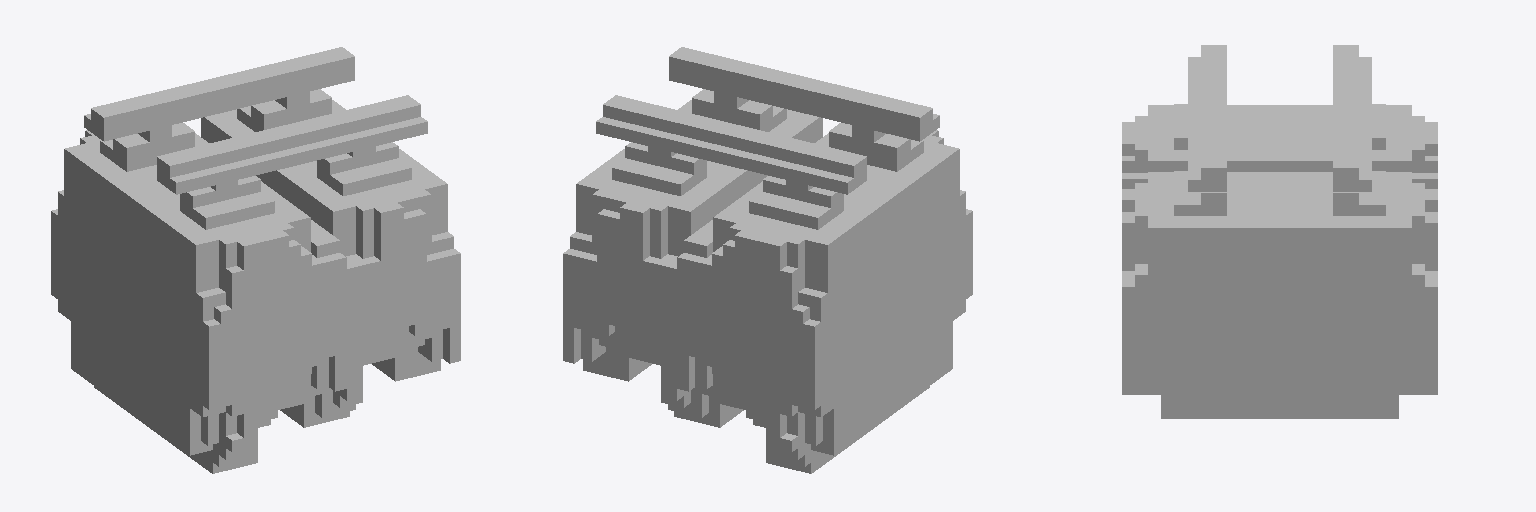
The model's file is ready rail ice.obj.
3 views of the same model, side by side, from view 1: azimuth 30°, elevation 25°; view 2: azimuth 150°, elevation 25°; view 3: azimuth 270°, elevation 25° (orthographic).
Visible parts, largest first — view 1: object 1; view 2: object 1; view 3: object 1.
Part boxes in pixels (x1,y1,x2,y2): object 1: (51, 47, 460, 473); object 1: (563, 47, 972, 473); object 1: (1122, 45, 1437, 418).
Bounding box in the file's own units: 2.2 × 2.5 × 2.4.